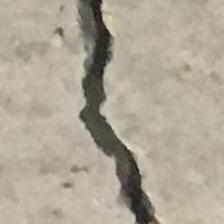Crack: (39, 0, 192, 224)
